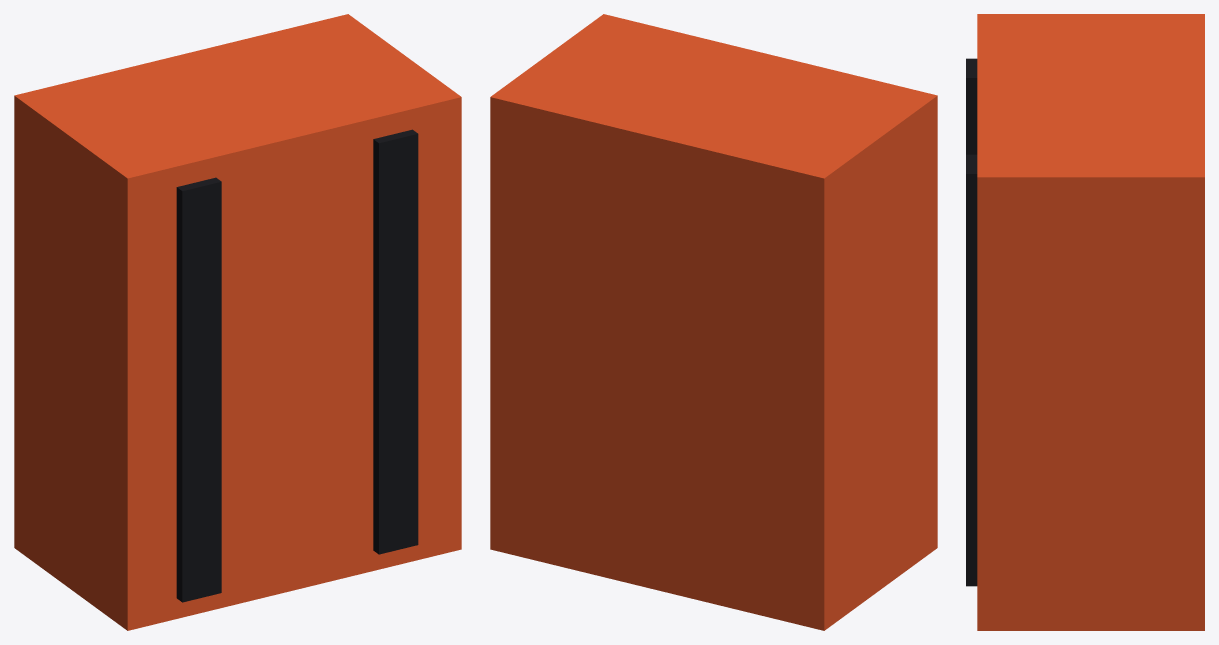
Rendered from pickup_parachute.glb.
3 renders of one model, left to right at view 1: azimuth 30°, elevation 25°; view 2: azimuth 150°, elevation 25°; view 3: azimuth 270°, elevation 25°, orthographic.
Visible parts, largest first — view 1: pickup_parachute_Body; view 2: pickup_parachute_Body; view 3: pickup_parachute_Body.
Part boxes in pixels (x1,y1,x2,y2): pickup_parachute_Body: (14, 14, 461, 630); pickup_parachute_Body: (490, 14, 937, 630); pickup_parachute_Body: (966, 14, 1204, 630).
Size of the model in its own units: 0.34 by 0.44 by 0.21.
